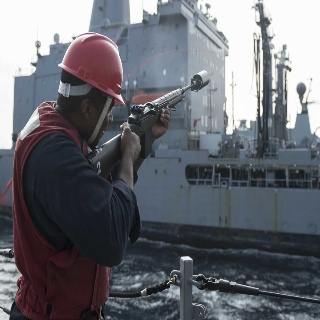rifle: (86, 69, 212, 172)
